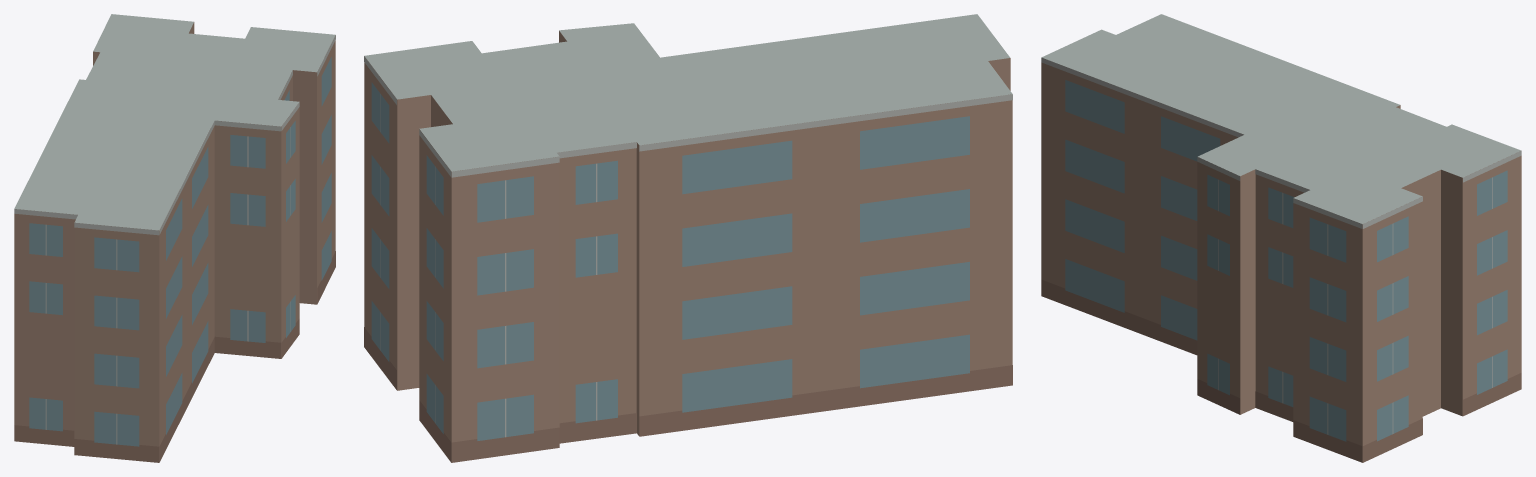
File: survey-upis-32784824.glb
The picture shows the model from 3 angles, left to right: view 1: azimuth 30°, elevation 25°; view 2: azimuth 150°, elevation 25°; view 3: azimuth 270°, elevation 25°; orthographic projection. The views are drawn at different scales.
Visible parts, largest first — view 1: survey-upis-32784824.tmp; view 2: survey-upis-32784824.tmp; view 3: survey-upis-32784824.tmp.
Part boxes in pixels (left/top/right/bottom): survey-upis-32784824.tmp: left=14, top=14, right=335, bottom=462; survey-upis-32784824.tmp: left=364, top=14, right=1012, bottom=462; survey-upis-32784824.tmp: left=1041, top=14, right=1521, bottom=462.
Bounding box in the file's own units: 22.11 × 11.7 × 21.34.
